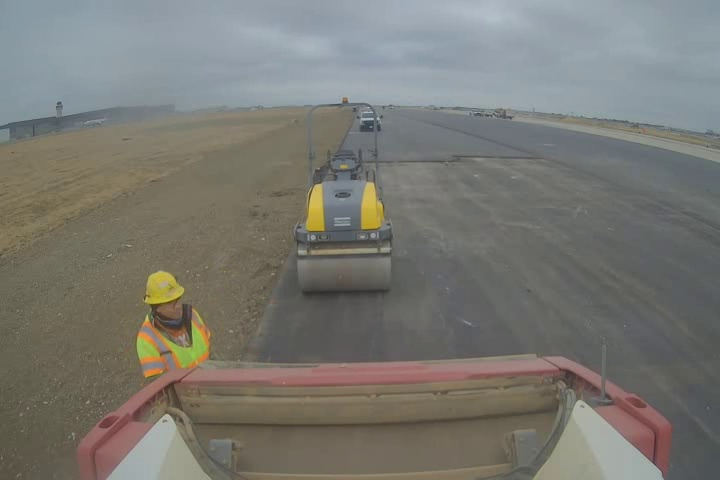person: (137, 271, 214, 378)
vehicle: (74, 351, 671, 479), (295, 103, 392, 293), (354, 109, 382, 136)
vest: (139, 306, 214, 379)
yellow_helmet: (142, 272, 189, 325)
